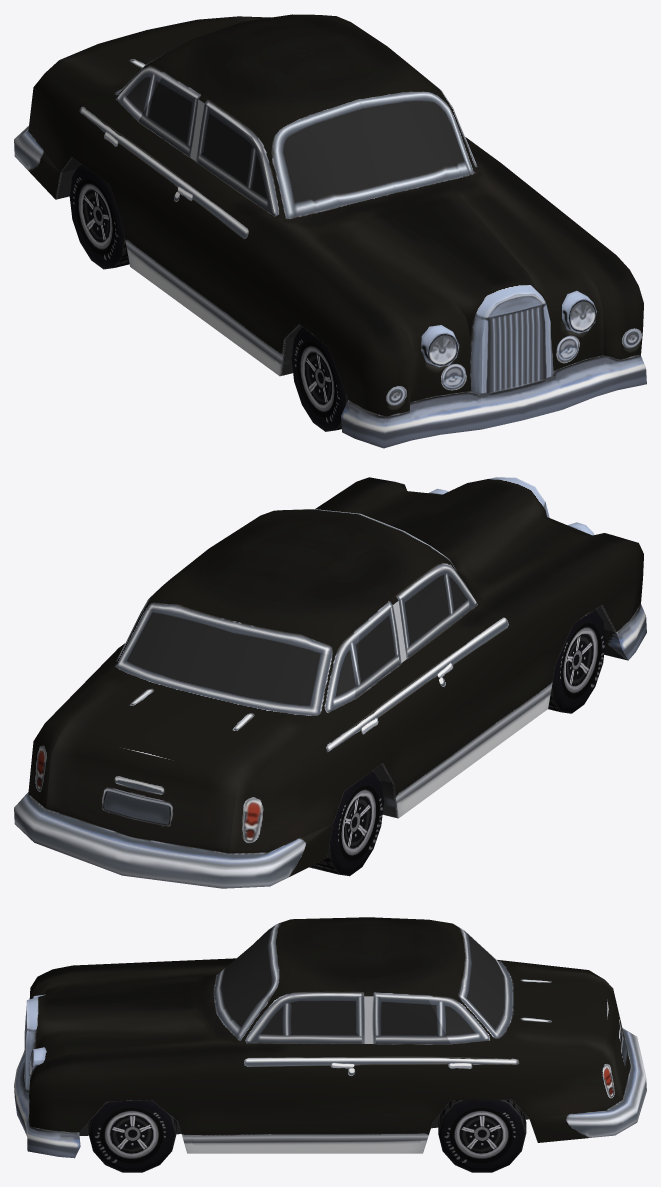
The model's file is Phantom.fbx.
3 renders of one model, top to bottom at view 1: azimuth 30°, elevation 25°; view 2: azimuth 150°, elevation 25°; view 3: azimuth 270°, elevation 25°, orthographic. The views are drawn at different scales.
Visible parts, largest first — view 1: PhantomBody, WheelBR, WheelFR; view 2: PhantomBody, WheelBR, WheelFR; view 3: PhantomBody, WheelBL, WheelFL.
Boxes of the visible parts, bbox=[...] form: PhantomBody: bbox=[14, 14, 646, 448]; WheelBR: bbox=[69, 163, 129, 269]; WheelFR: bbox=[291, 327, 348, 431]; PhantomBody: bbox=[14, 477, 646, 888]; WheelBR: bbox=[309, 770, 383, 876]; WheelFR: bbox=[548, 609, 605, 713]; PhantomBody: bbox=[14, 917, 646, 1158]; WheelBL: bbox=[438, 1100, 526, 1172]; WheelFL: bbox=[88, 1100, 176, 1172].
Size of the model in its own units: 224 by 178 by 544.
